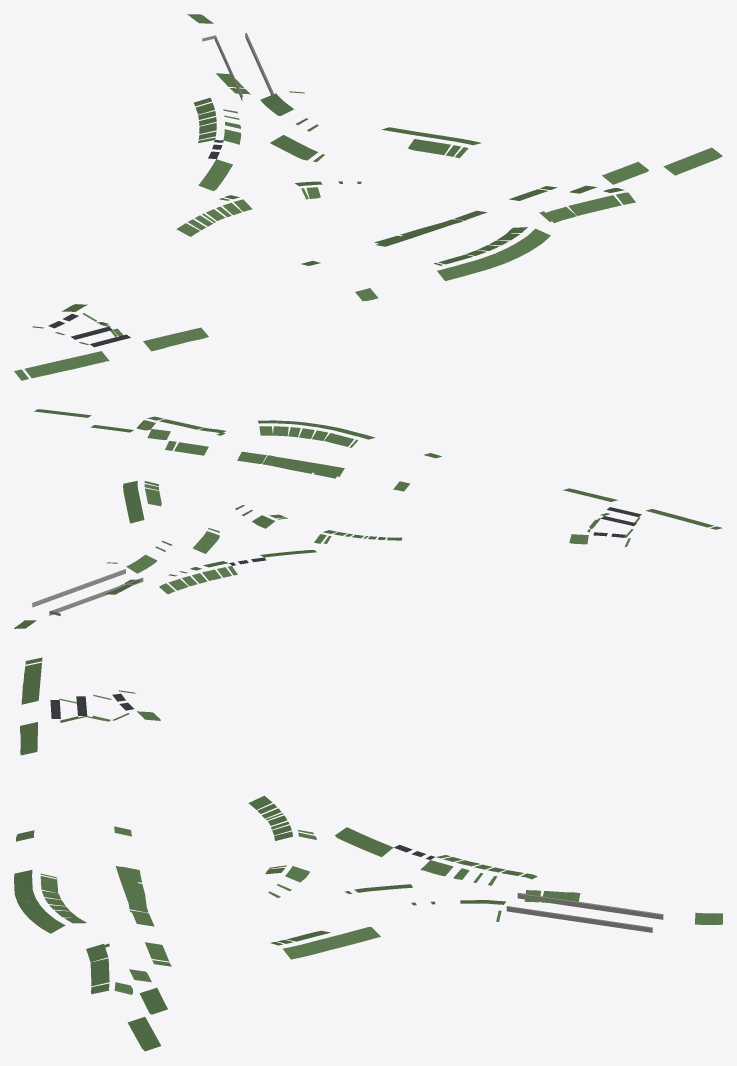
The model's file is br_h27_calgary_trail_2_lod2.gltf.
The picture shows the model from 3 angles, top to bottom: view 1: azimuth 30°, elevation 25°; view 2: azimuth 150°, elevation 25°; view 3: azimuth 270°, elevation 25°; orthographic projection. The views are drawn at different scales.
Visible parts, largest first — view 1: br_h27_calgary_trail_2_lod2; view 2: br_h27_calgary_trail_2_lod2; view 3: br_h27_calgary_trail_2_lod2.
Part boxes in pixels (x1,y1,x2,y2): br_h27_calgary_trail_2_lod2: (14,14,722,380); br_h27_calgary_trail_2_lod2: (14,409,722,628); br_h27_calgary_trail_2_lod2: (14,657,722,1051).
Size of the model in its own units: 1219 by 17.95 by 940.
